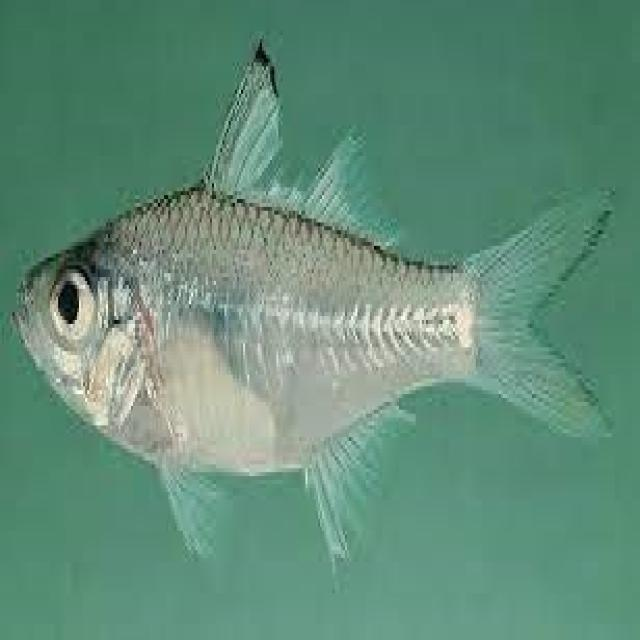Glass-Perchlet: (9, 26, 613, 575)
